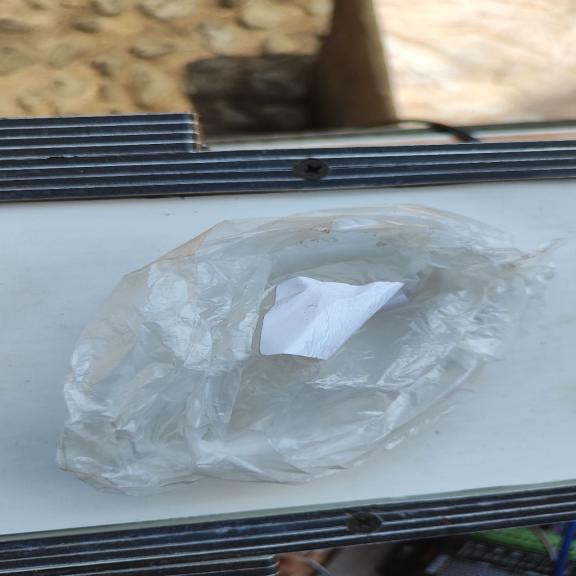Plastik: (54, 201, 566, 497)
